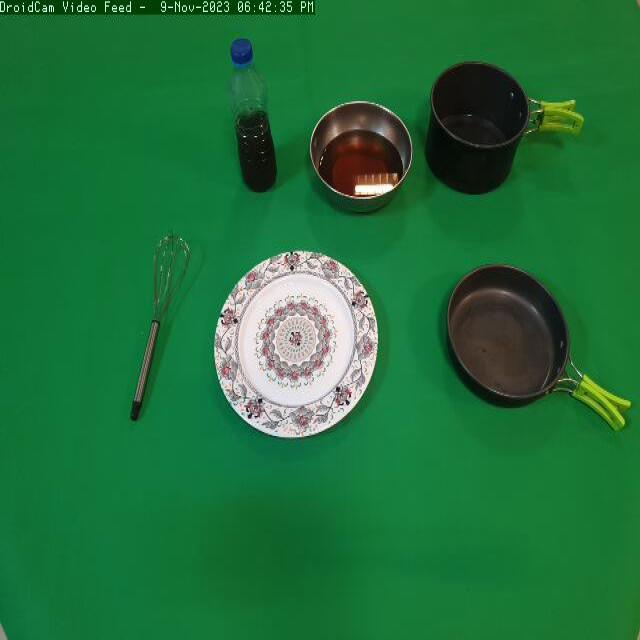fullbottle: (226, 31, 285, 200)
fullbowl: (301, 94, 417, 222)
pan: (435, 260, 632, 458)
plate: (210, 246, 384, 456)
pot: (418, 57, 586, 205)
whisk: (110, 225, 204, 427)
